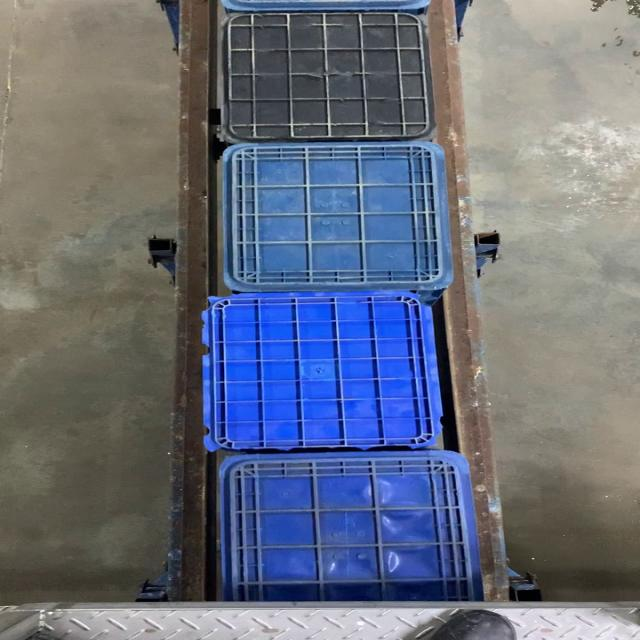Box: (221, 140, 454, 291), (219, 8, 437, 140)
Damaged_box: (197, 291, 443, 457)
